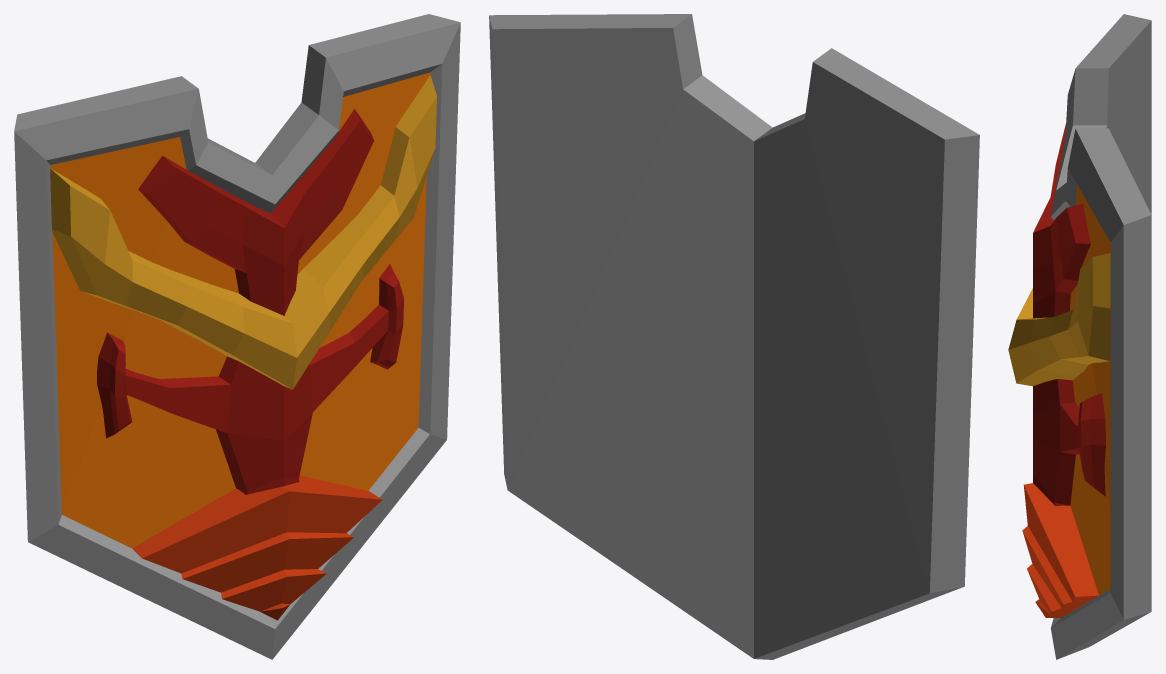
Rendered from Shield08.glb.
The picture shows the model from 3 angles, left to right: view 1: azimuth 30°, elevation 25°; view 2: azimuth 150°, elevation 25°; view 3: azimuth 270°, elevation 25°; orthographic projection. The views are drawn at different scales.
Parts seen in each view (by area): view 1: Shield8_Shield08; view 2: Shield8_Shield08; view 3: Shield8_Shield08.
Boxes of the visible parts, x1,y1,x2,y2 form: Shield8_Shield08: [14, 14, 460, 659]; Shield8_Shield08: [489, 14, 979, 659]; Shield8_Shield08: [1008, 14, 1151, 659].
Bounding box in the file's own units: 0.7743 × 0.96 × 0.222.
Materials: 1 (1 with a texture image).
